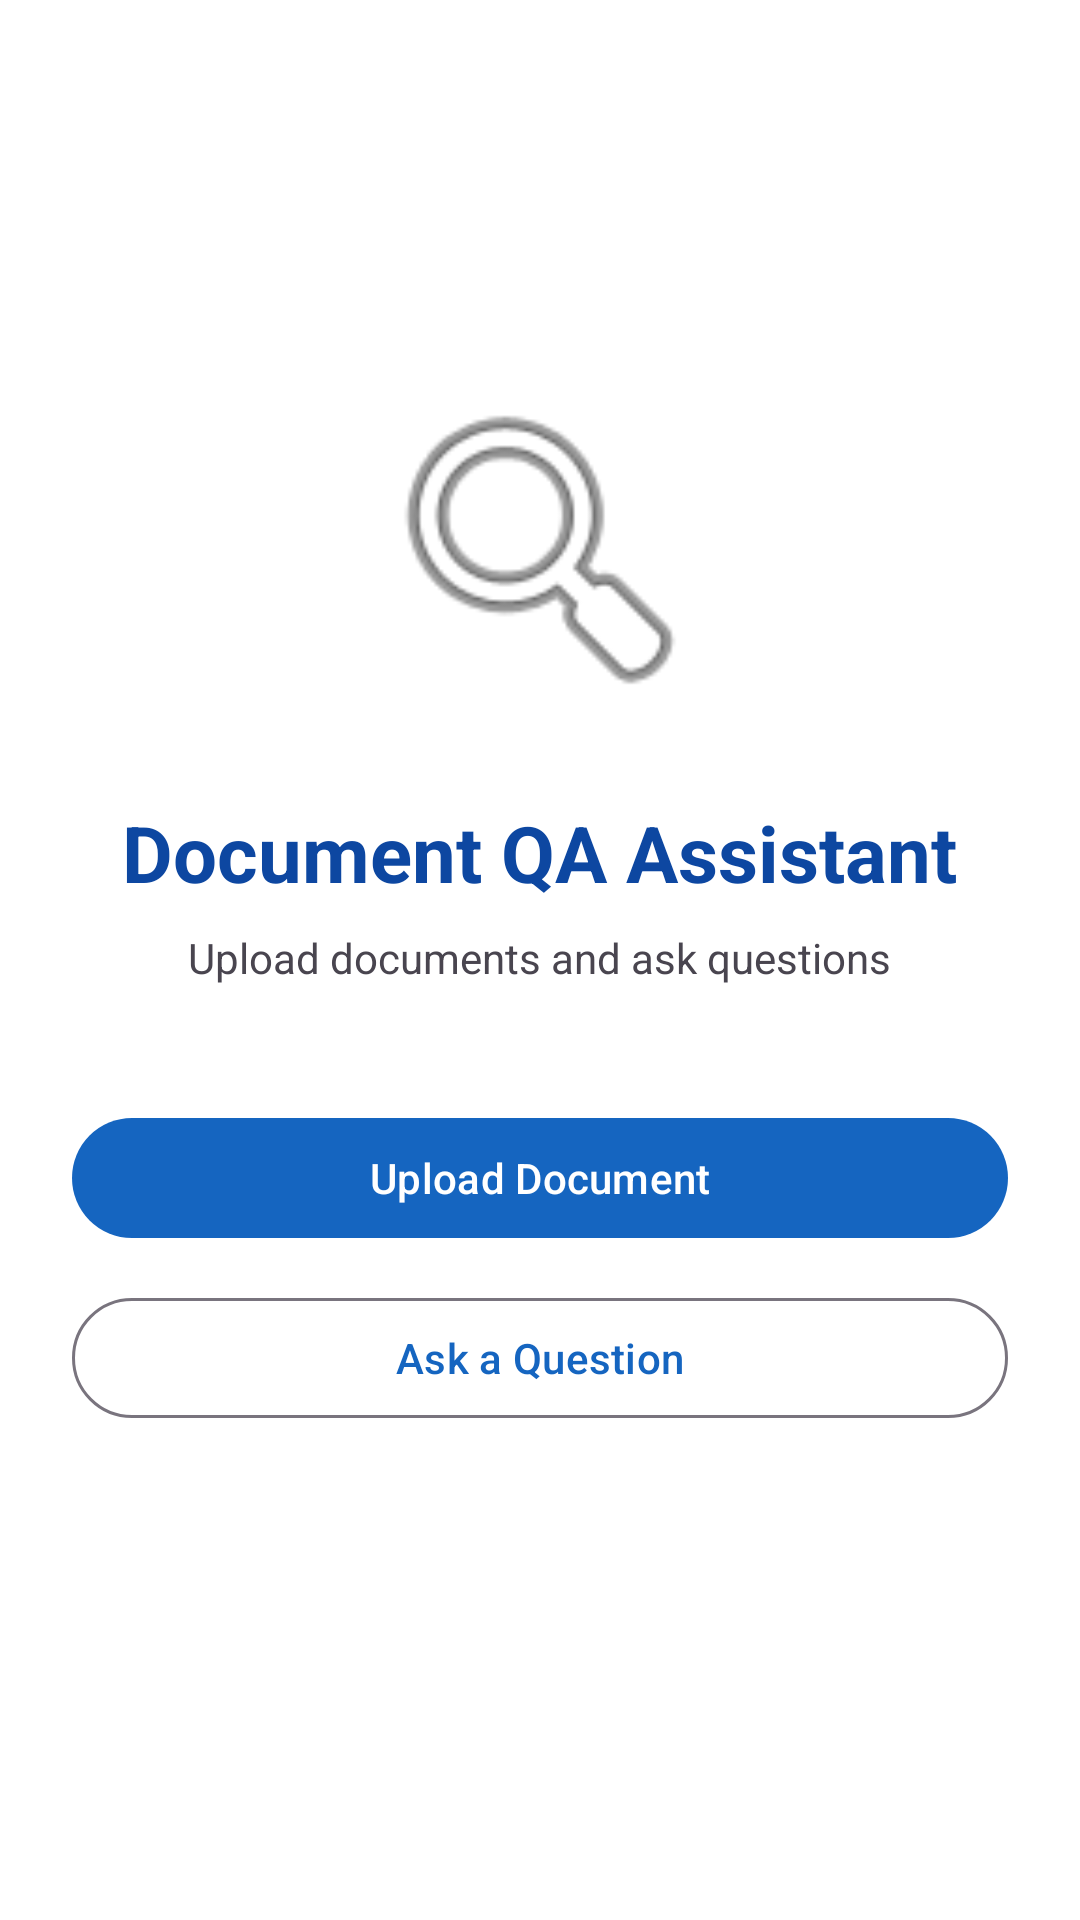

Icon bounding boxes for this 1080 × 1920 phone screenshot, format (x1, y1, x2, y2):
search: (406, 416, 673, 684)
